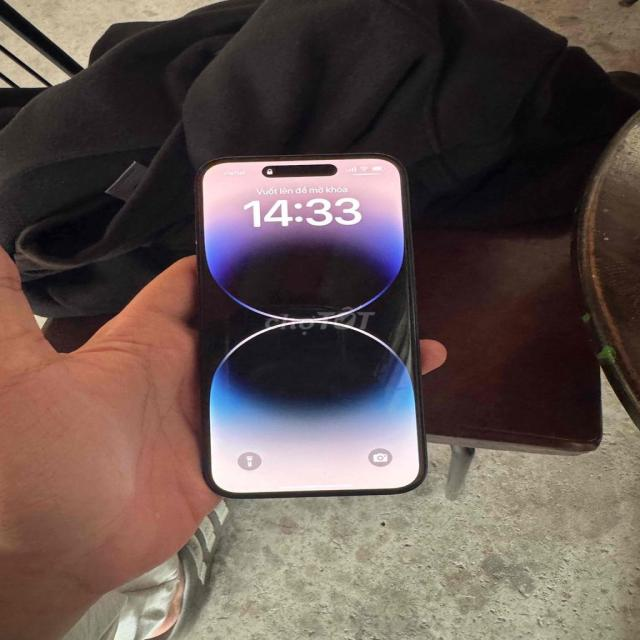gen_14: (186, 148, 436, 505)
